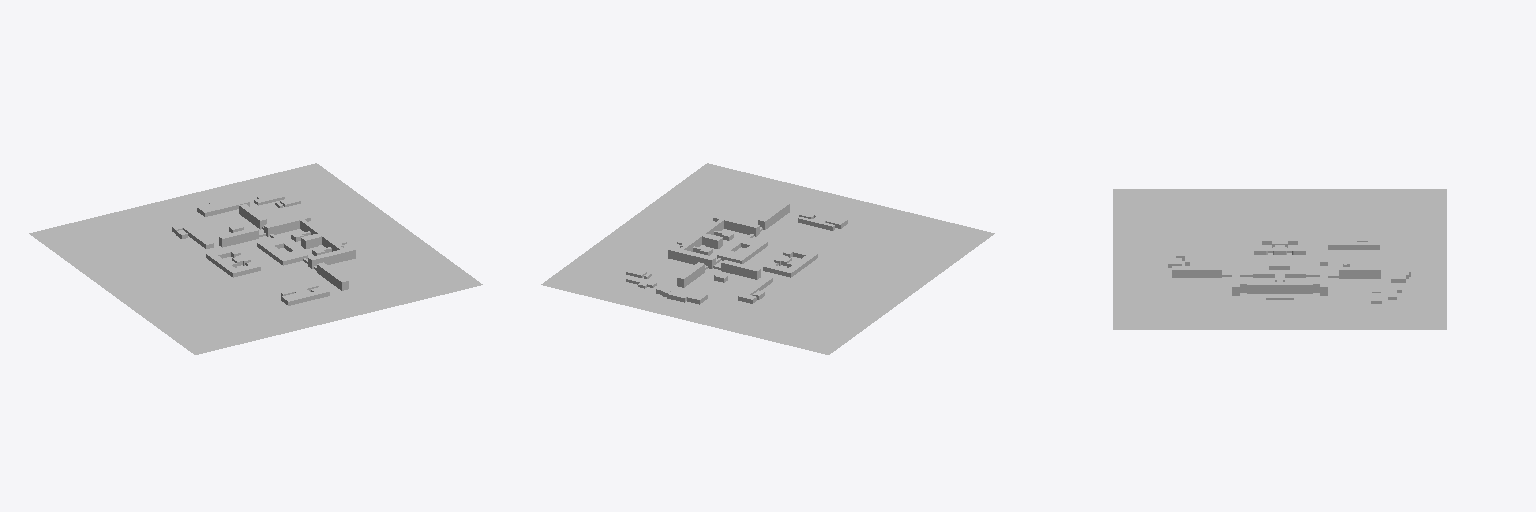
The model's file is Main.obj.
3 views of the same model, side by side, from view 1: azimuth 30°, elevation 25°; view 2: azimuth 150°, elevation 25°; view 3: azimuth 270°, elevation 25° (orthographic).
Parts seen in each view (by area): view 1: Плоскость, Куб.009; view 2: Плоскость, Куб.010; view 3: Плоскость, Куб.001, Куб.025_Куб.027.
Part boxes in pixels (bbox=[...]): Плоскость: bbox=[29, 163, 482, 354]; Куб.009: bbox=[308, 247, 355, 268]; Плоскость: bbox=[541, 163, 994, 354]; Куб.010: bbox=[668, 247, 715, 268]; Плоскость: bbox=[1113, 189, 1446, 329]; Куб.001: bbox=[1247, 282, 1312, 293]; Куб.025_Куб.027: bbox=[1172, 266, 1221, 277].
Bounding box in the file's own units: 140 × 5 × 140.